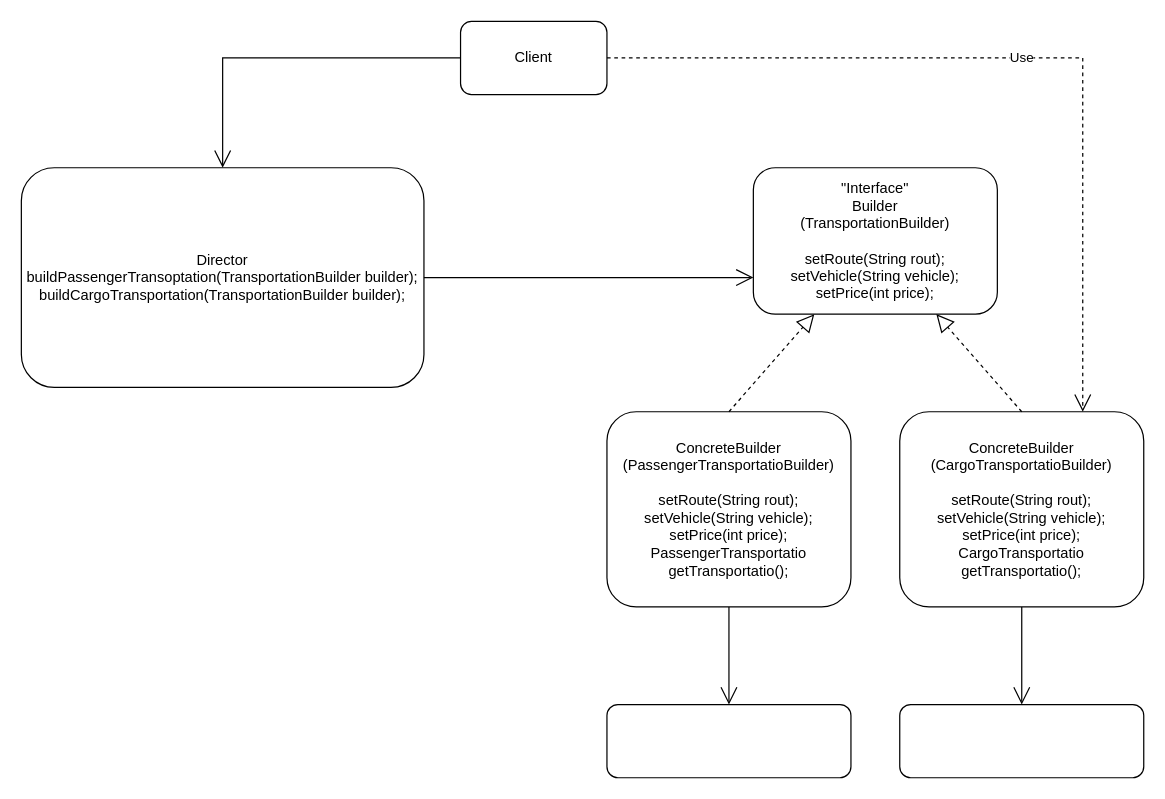
Some shapes in this 1165 by 799 pixel diagram are drawn without their labels. The shapes that lost their labels are listed below. From the top down, each one's centre as x and y in pixels, then its label:
point (728, 740): Product (PassengerTransportation)
point (1021, 740): Product (CargoTransportation)
